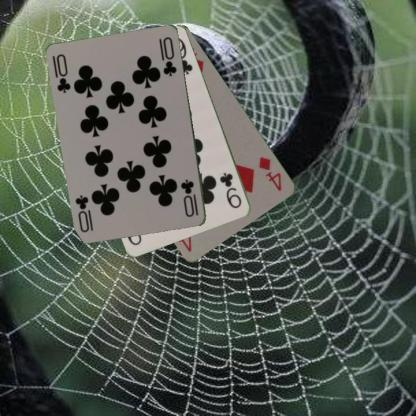10c: (50, 51, 72, 95), (178, 176, 200, 218)
4d: (256, 154, 284, 194)
9c: (217, 170, 243, 210)
